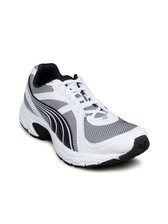shoes: (18, 60, 151, 166)
